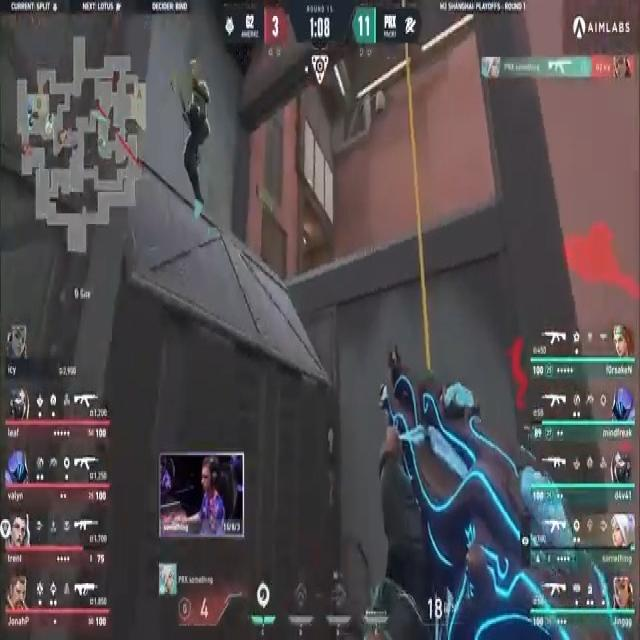ally: (170, 52, 220, 222)
